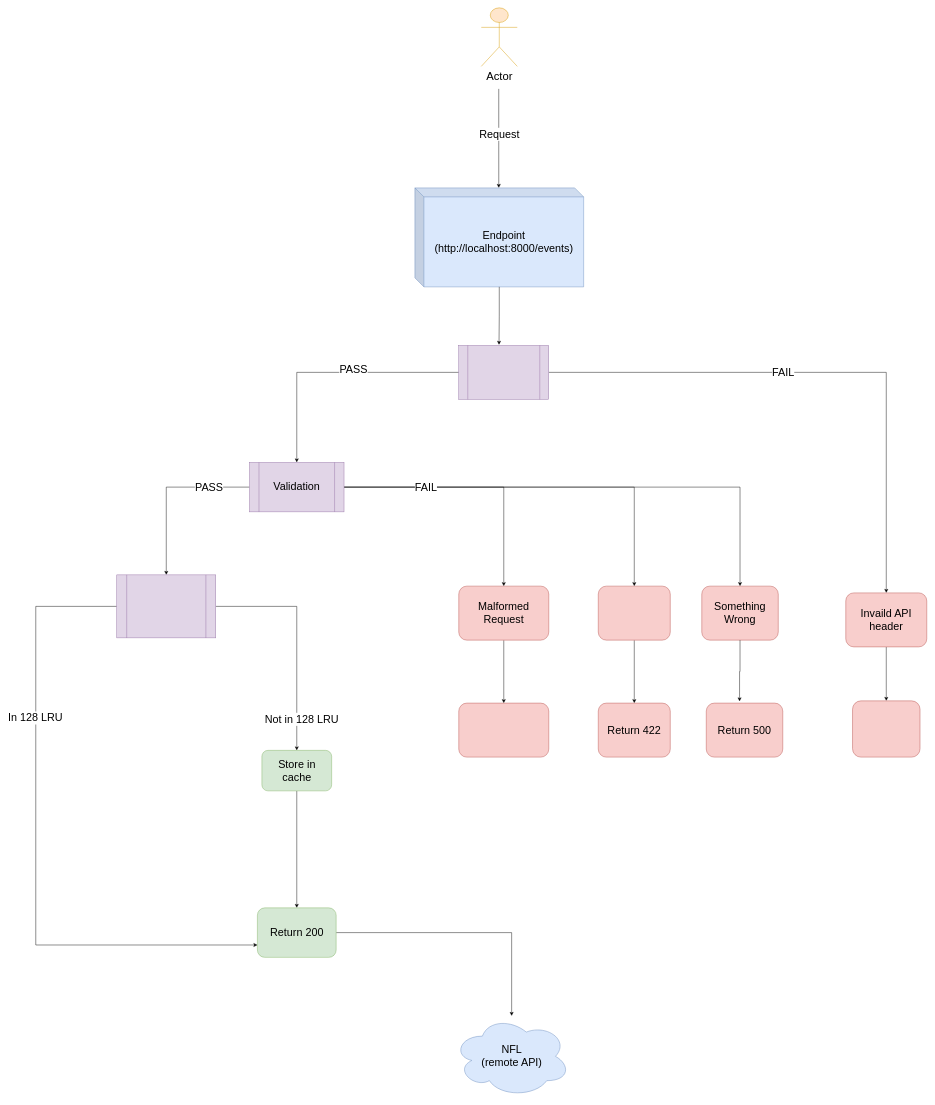
Image size: 935x1105. Some labels were removed from this diagram. The centre of each missing label's shape, as x and y in pixels:
"Authorization" belongs at (503,372).
"Cache Chec king" belongs at (166,606).
"Invalid or Missing Parameters" belongs at (634,613).
"Return 400" belongs at (503,730).
"Return 403" belongs at (886,728).
